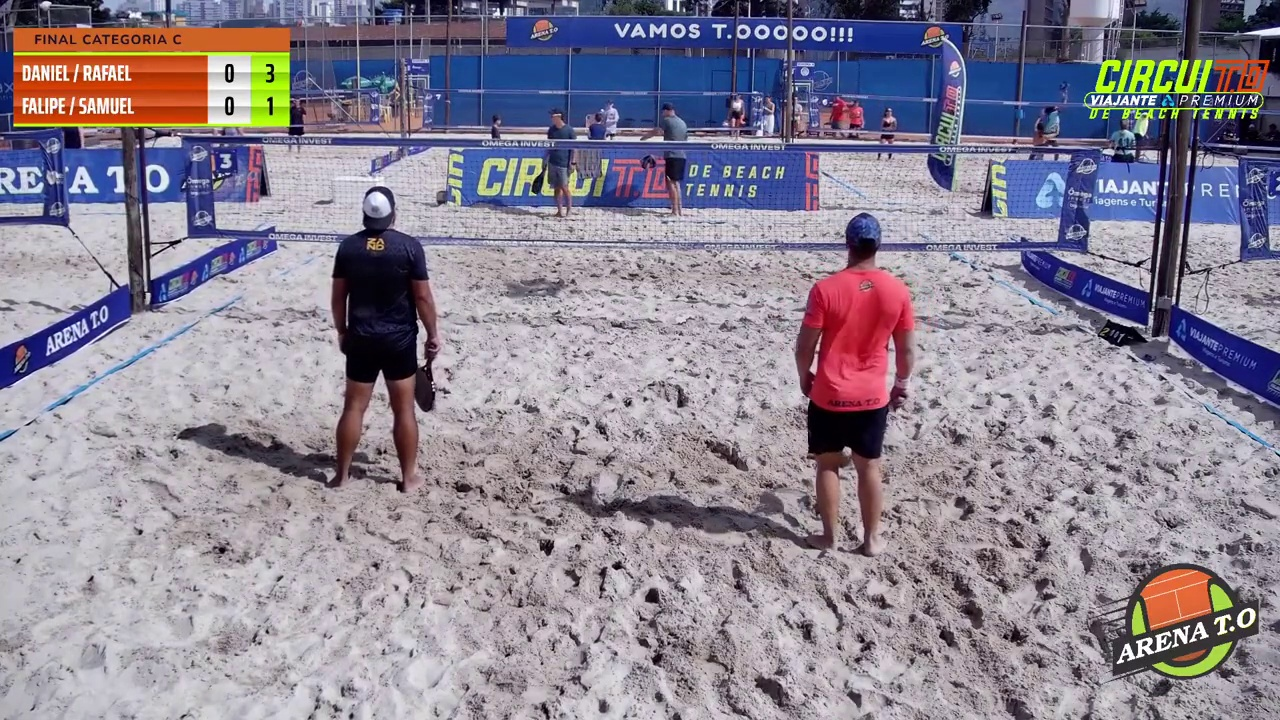court_line: (648, 0, 800, 440), (541, 0, 669, 519)
